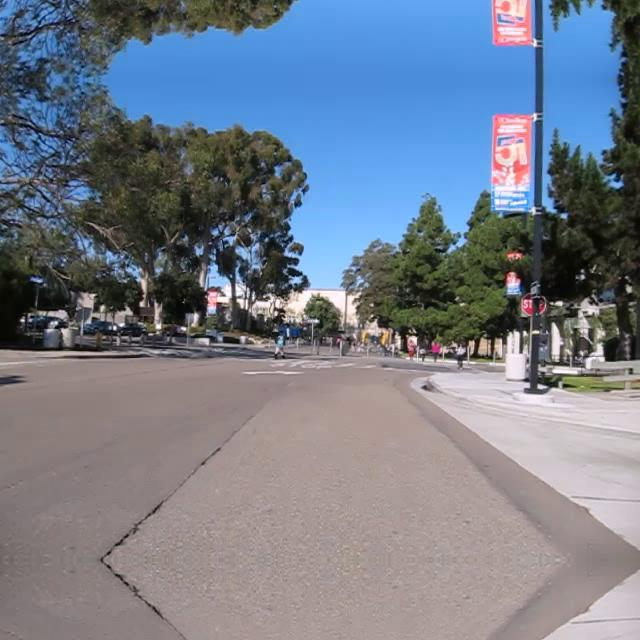stop: (520, 290, 546, 318)
